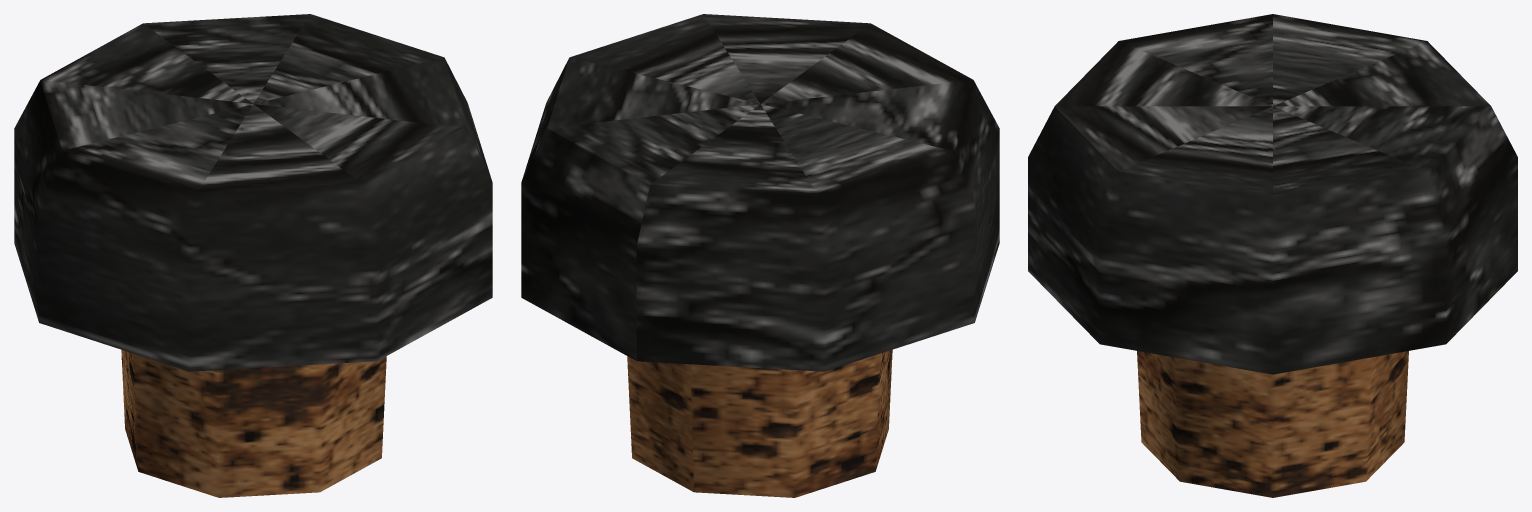
File: HB_Cork_T22.fbx
The picture shows the model from 3 angles, left to right: view 1: azimuth 30°, elevation 25°; view 2: azimuth 150°, elevation 25°; view 3: azimuth 270°, elevation 25°; orthographic projection.
Visible parts, largest first — view 1: HB_Cork_T22; view 2: HB_Cork_T22; view 3: HB_Cork_T22.
Boxes of the visible parts, <box> form: HB_Cork_T22: <box>14,14,492,497</box>; HB_Cork_T22: <box>521,14,999,497</box>; HB_Cork_T22: <box>1028,14,1517,497</box>.
Bounding box in the file's own units: 0.035 × 0.0265 × 0.035.
1 material, 1 textured.
